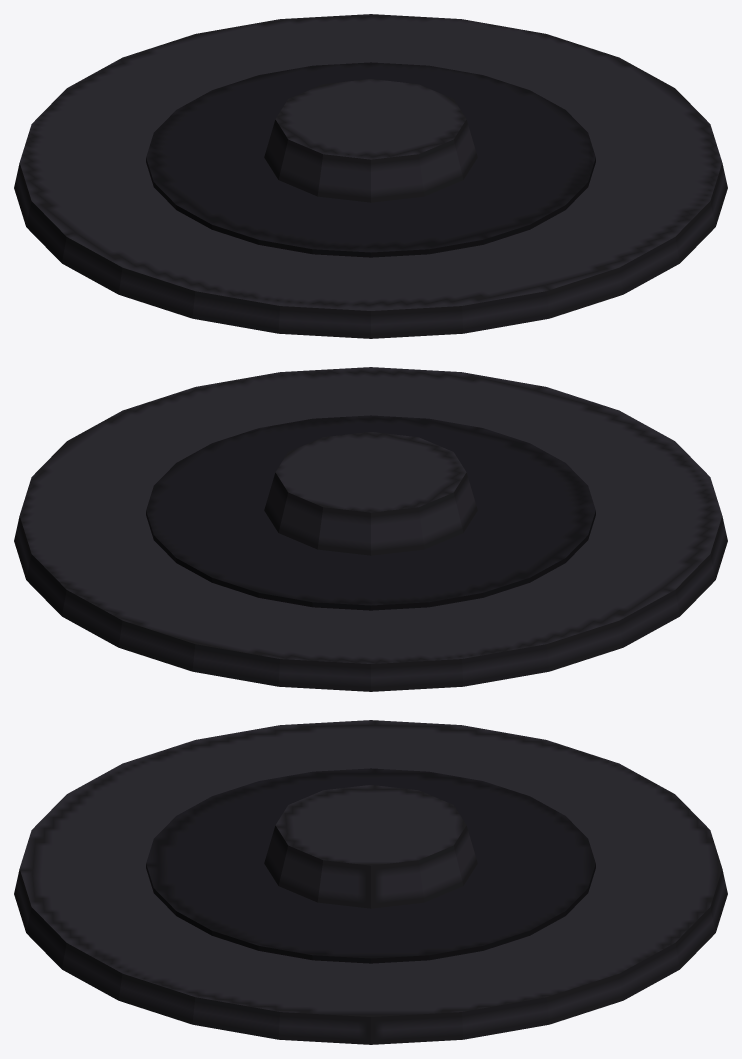
Rendered from PortalPadRing.obj.
3 renders of one model, top to bottom at view 1: azimuth 30°, elevation 25°; view 2: azimuth 150°, elevation 25°; view 3: azimuth 270°, elevation 25°, orthographic.
Parts seen in each view (by area): view 1: PortalPadRing; view 2: PortalPadRing; view 3: PortalPadRing.
Part boxes in pixels (left/top/right/bottom): PortalPadRing: left=14, top=14, right=727, bottom=338; PortalPadRing: left=14, top=367, right=727, bottom=691; PortalPadRing: left=14, top=720, right=727, bottom=1044.
Size of the model in its own units: 2.54 by 0.27 by 2.54.
Materials: 1 (1 with a texture image).
